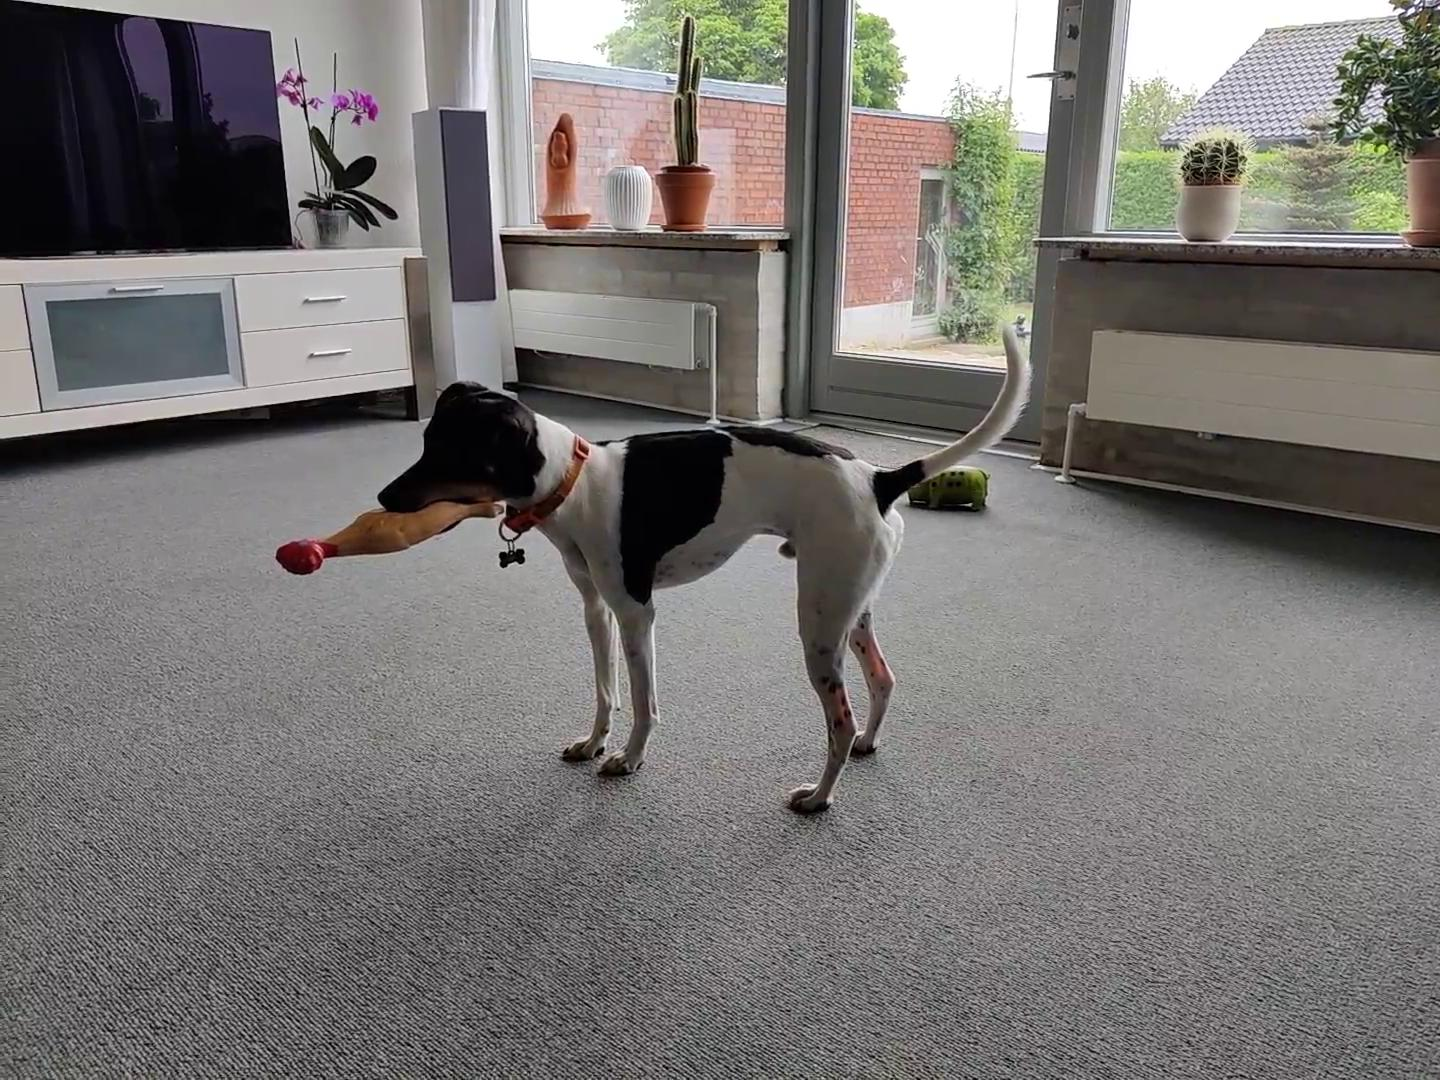Dog: (372, 320, 1037, 821)
